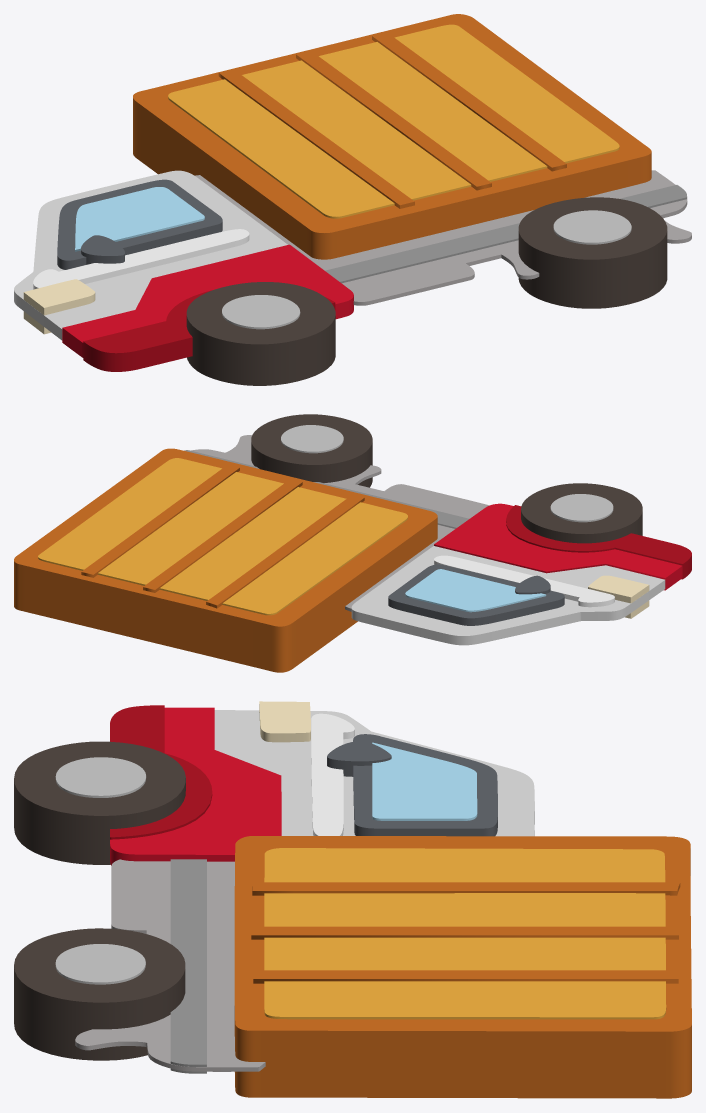
The model's file is emoji_u1f69a.glb.
3 renders of one model, top to bottom at view 1: azimuth 30°, elevation 25°; view 2: azimuth 150°, elevation 25°; view 3: azimuth 270°, elevation 25°, orthographic. The views are drawn at different scales.
Parts seen in each view (by area): view 1: emoji_u1f69a; view 2: emoji_u1f69a; view 3: emoji_u1f69a.
Boxes of the visible parts, x1,y1,x2,y2 form: emoji_u1f69a: [14, 14, 691, 385]; emoji_u1f69a: [14, 414, 691, 672]; emoji_u1f69a: [14, 701, 691, 1098].
Bounding box in the file's own units: 0.0339 × 0.0034 × 0.0275.
